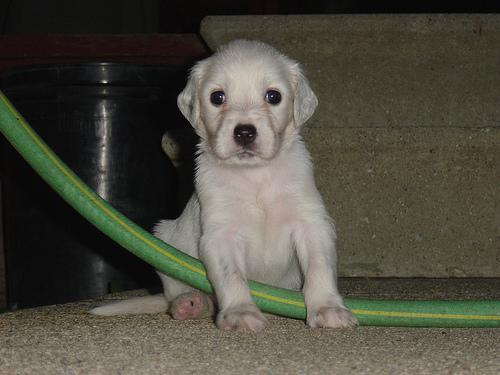dog-english_setter: (175, 38, 317, 162)
